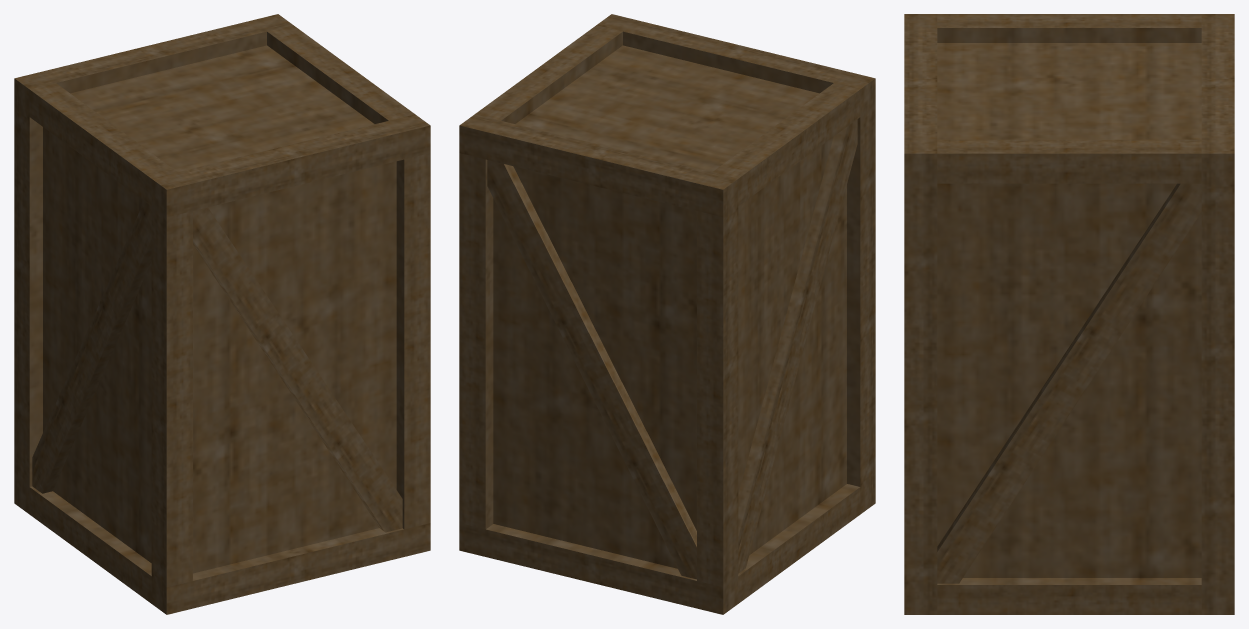
The model's file is LargeCrate.fbx.
3 renders of one model, left to right at view 1: azimuth 30°, elevation 25°; view 2: azimuth 150°, elevation 25°; view 3: azimuth 270°, elevation 25°, orthographic. The views are drawn at different scales.
Parts seen in each view (by area): view 1: LargeCrate; view 2: LargeCrate; view 3: LargeCrate.
Boxes of the visible parts, x1,y1,x2,y2 form: LargeCrate: (14, 14, 430, 614); LargeCrate: (459, 14, 875, 614); LargeCrate: (904, 14, 1234, 614).
Size of the model in its own units: 1 by 1.54 by 1.
